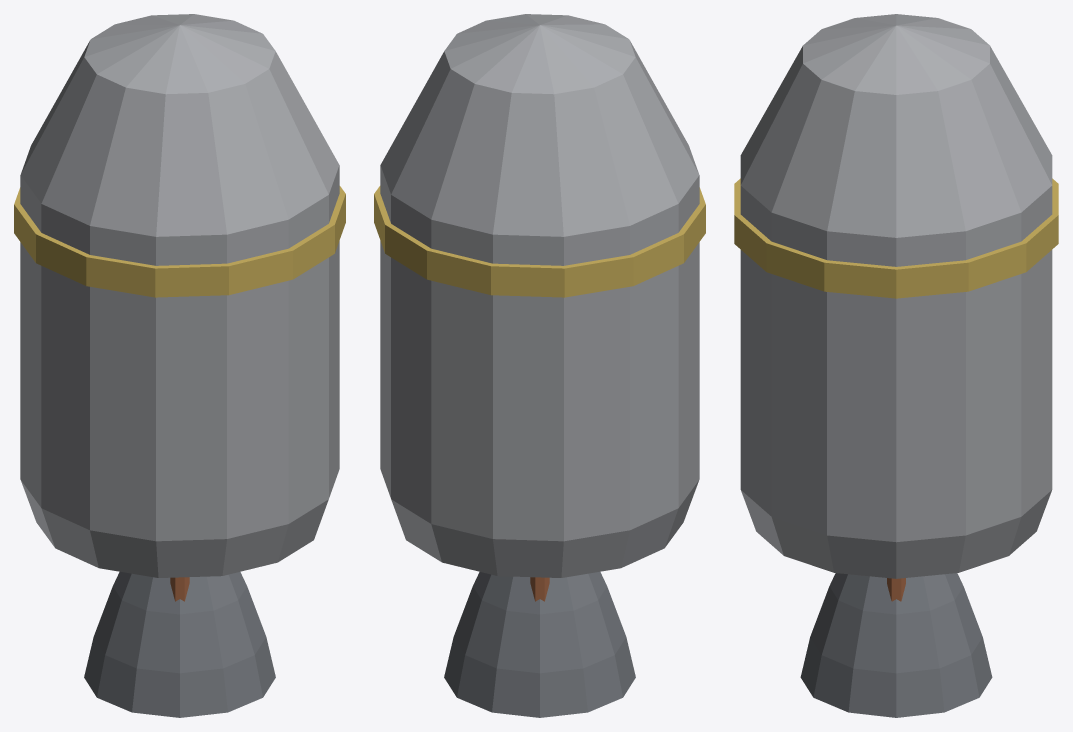
The model's file is Eng_S_SolidKick.fbx.
3 views of the same model, side by side, from view 1: azimuth 30°, elevation 25°; view 2: azimuth 150°, elevation 25°; view 3: azimuth 270°, elevation 25° (orthographic).
Visible parts, largest first — view 1: Eng_S_SolidKick; view 2: Eng_S_SolidKick; view 3: Eng_S_SolidKick.
Part boxes in pixels (<box>): Eng_S_SolidKick: <box>14,14,345,717</box>; Eng_S_SolidKick: <box>374,14,705,717</box>; Eng_S_SolidKick: <box>734,14,1058,717</box>.
Bounding box in the file's own units: 1.04 × 2.25 × 1.01.
1 material, 1 textured.
